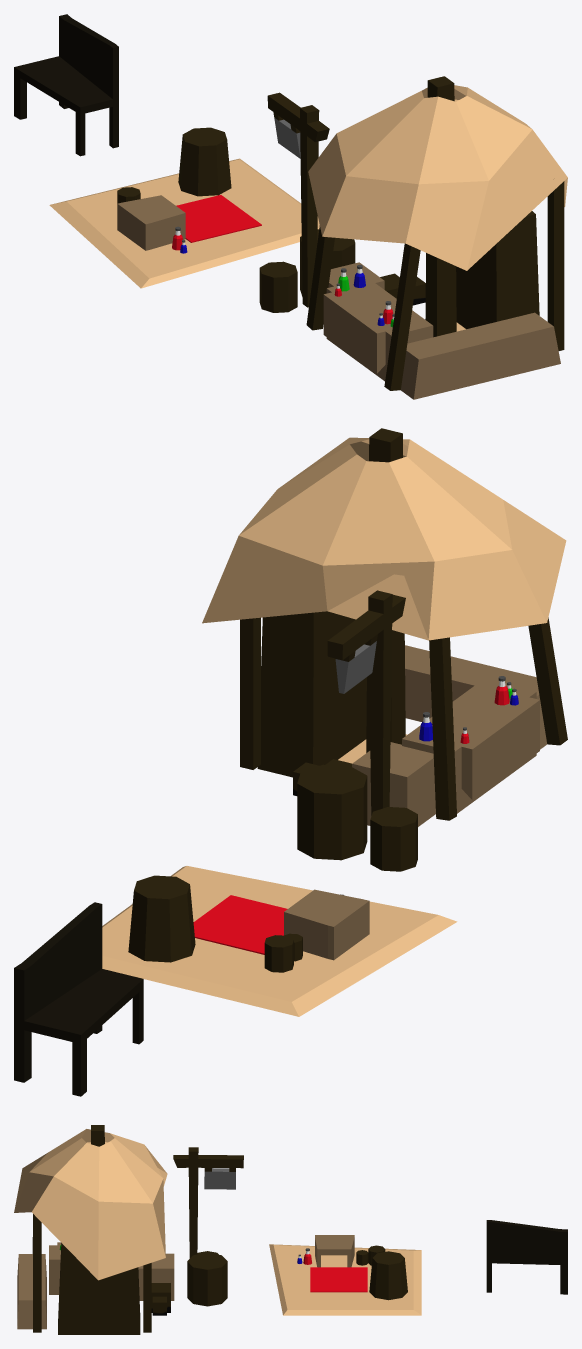
Rendered from modelos_aldea.fbx.
3 views of the same model, one above another, from view 1: azimuth 30°, elevation 25°; view 2: azimuth 150°, elevation 25°; view 3: azimuth 270°, elevation 25° (orthographic). The views are drawn at different scales.
Visible parts, largest first — view 1: Cone, Carpet, Cube.010, Banco, Cube.011, Cube.006, Palo_anuncio, Cylinder.004, Cube, Cube.005, Cube.003, Cube.002 (+5 smaller); view 2: Cone, Carpet, Cube.011, Banco, Cube.006, Palo_anuncio, cubeta1, Cylinder.004, Cube, Cube.001, Cube.010, Carpet.001 (+6 smaller); view 3: Cone, Carpet, Cube.011, Banco, Palo_anuncio, cubeta1, Cube.010, Cylinder.004, Carpet.001, Cube.003, Cube, Cube.007 (+5 smaller).
Part boxes in pixels (bbox=[...]): Cone: bbox=[308, 85, 567, 270]; Carpet: bbox=[49, 158, 319, 288]; Cube.010: bbox=[401, 312, 560, 399]; Banco: bbox=[14, 14, 118, 156]; Cube.011: bbox=[456, 211, 539, 329]; Cube.006: bbox=[323, 278, 433, 381]; Palo_anuncio: bbox=[267, 92, 329, 307]; Cylinder.004: bbox=[178, 127, 231, 196]; Cube: bbox=[117, 195, 185, 250]; Cube.005: bbox=[425, 76, 456, 337]; Cube.003: bbox=[547, 181, 564, 350]; Cube.002: bbox=[384, 243, 420, 390]; Cone: bbox=[202, 437, 566, 640]; Carpet: bbox=[102, 866, 457, 1016]; Cube.011: bbox=[257, 611, 366, 777]; Banco: bbox=[14, 902, 143, 1096]; Cube.006: bbox=[402, 679, 539, 813]; Palo_anuncio: bbox=[327, 590, 405, 815]; cubeta1: bbox=[297, 764, 367, 860]; Cylinder.004: bbox=[128, 875, 195, 962]; Cube: bbox=[284, 889, 369, 960]; Cube.001: bbox=[429, 637, 456, 820]; Cube.010: bbox=[405, 645, 547, 749]; Carpet.001: bbox=[193, 895, 287, 954]; Cone: bbox=[14, 1129, 167, 1280]; Carpet: bbox=[269, 1244, 421, 1315]; Cube.011: bbox=[58, 1243, 140, 1334]; Banco: bbox=[486, 1220, 567, 1294]; Palo_anuncio: bbox=[173, 1147, 243, 1258]; cubeta1: bbox=[187, 1252, 227, 1306]; Cube.010: bbox=[17, 1254, 46, 1329]; Cylinder.004: bbox=[369, 1251, 407, 1300]; Carpet.001: bbox=[310, 1267, 367, 1292]; Cube.003: bbox=[33, 1214, 41, 1332]; Cube: bbox=[315, 1235, 354, 1267]; Cube.007: bbox=[138, 1253, 174, 1300].
Size of the model in its own units: 1448 by 1191 by 3264.
Materials: 9 (9 with a texture image).
